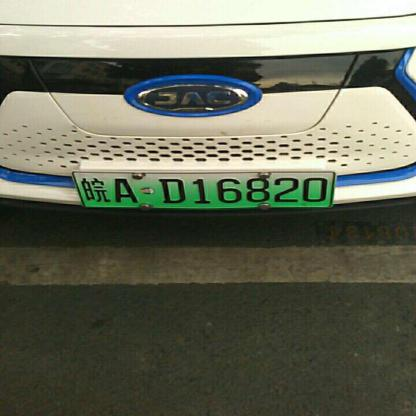lp: (74, 172, 334, 206)
